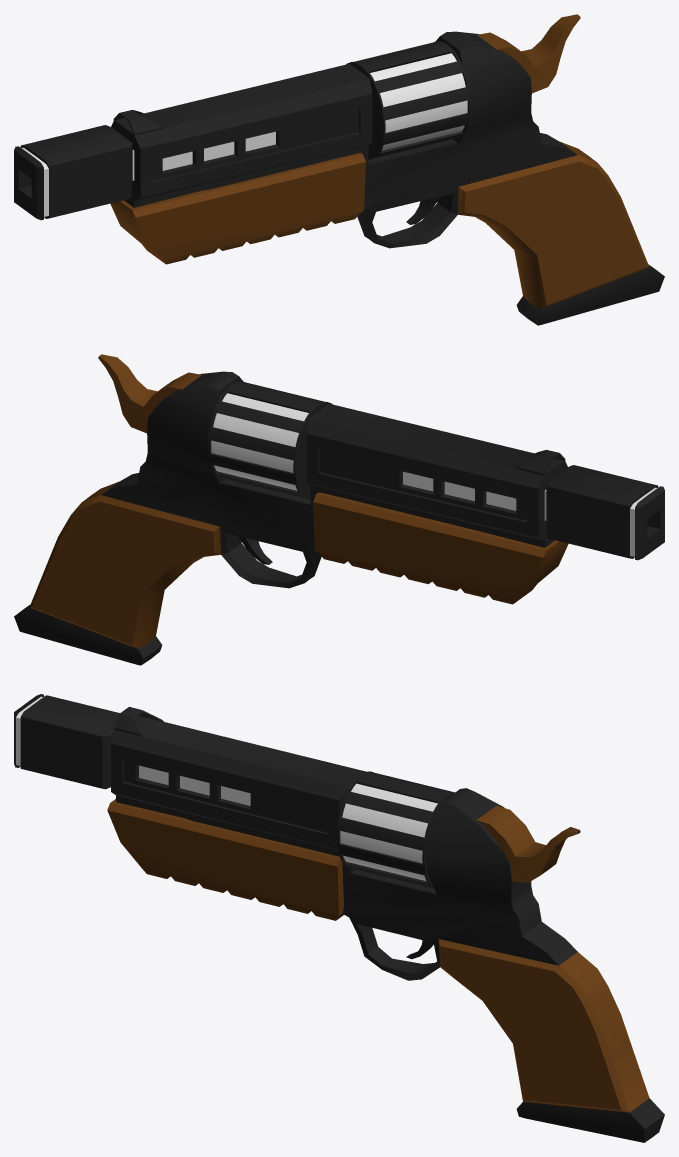
Rendered from Revolver.fbx.
3 renders of one model, top to bottom at view 1: azimuth 30°, elevation 25°; view 2: azimuth 150°, elevation 25°; view 3: azimuth 330°, elevation 25°, orthographic.
Visible parts, largest first — view 1: Plane; view 2: Plane; view 3: Plane.
Part boxes in pixels (box(x1,y1,x2,y2)): Plane: box(14, 14, 664, 325); Plane: box(14, 354, 664, 665); Plane: box(14, 694, 664, 1142).
Size of the model in its own units: 97.24 by 44.68 by 12.53.
